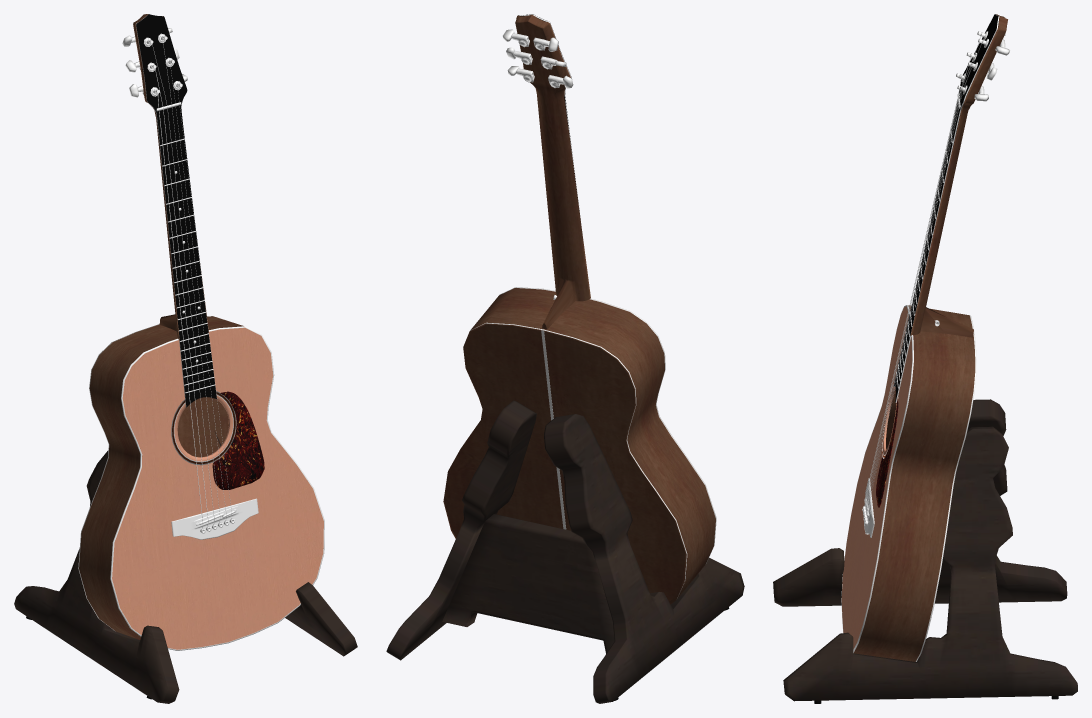
File: guitar3-transformed.glb
3 views of the same model, side by side, from view 1: azimuth 30°, elevation 25°; view 2: azimuth 150°, elevation 25°; view 3: azimuth 270°, elevation 25° (orthographic). The views are drawn at different scales.
Parts seen in each view (by area): view 1: Circle.001, Plane.007, Plane.010, Plane.004, Circle.003, Circle; view 2: Circle.001, Plane.007; view 3: Circle.001, Plane.007, Plane.010, Circle.003, Circle, Plane.004.
Part boxes in pixels (x1,y1,x2,y2): Circle.001: (78,14,324,650); Plane.007: (14,431,357,703); Plane.010: (136,14,216,407); Plane.004: (212,391,264,489); Circle.003: (148,36,231,524); Circle: (151,65,208,528); Circle.001: (443,14,716,604); Plane.007: (386,400,744,703); Circle.001: (841,14,1009,661); Plane.007: (773,399,1077,701); Plane.010: (893,14,999,402); Circle.003: (865,32,983,520); Circle: (864,53,971,508); Plane.004: (876,400,898,507).
Size of the model in its own units: 0.4655 by 1.2 by 0.5202.
12 materials, 5 textured.
